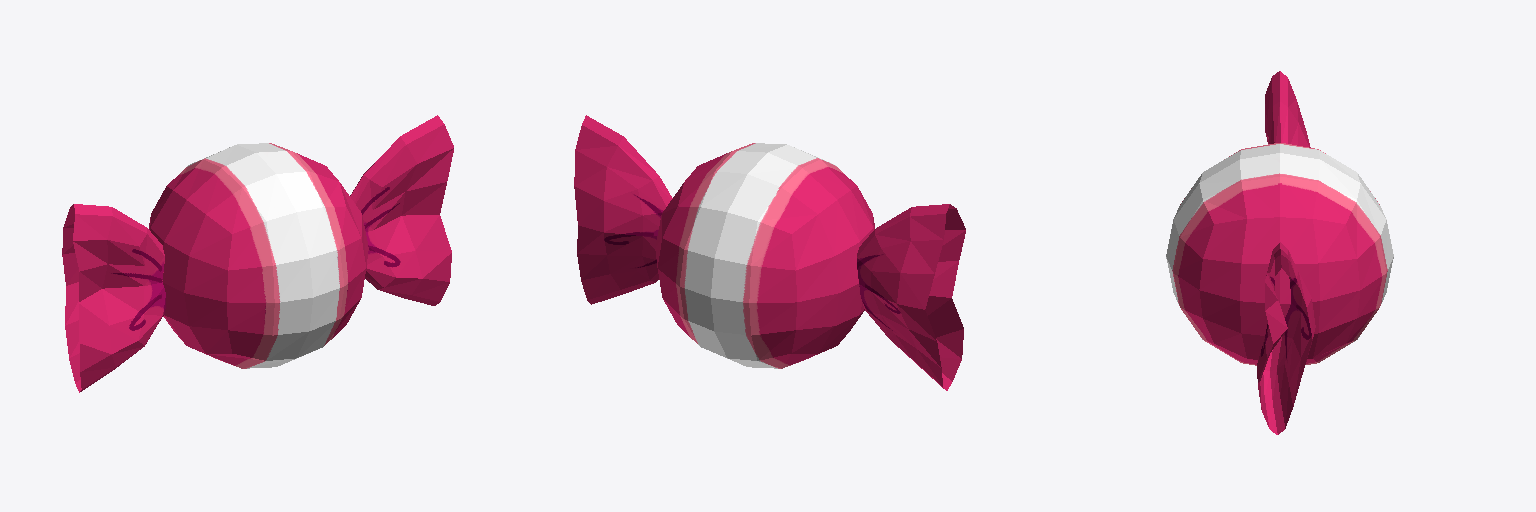
The picture shows the model from 3 angles: view 1: azimuth 30°, elevation 25°; view 2: azimuth 150°, elevation 25°; view 3: azimuth 270°, elevation 25°; orthographic projection.
Visible parts, largest first — view 1: Candy_Roundcube.005; view 2: Candy_Roundcube.005; view 3: Candy_Roundcube.005.
Part boxes in pixels (bbox=[...]): Candy_Roundcube.005: bbox=[62, 115, 453, 392]; Candy_Roundcube.005: bbox=[574, 115, 965, 390]; Candy_Roundcube.005: bbox=[1166, 71, 1393, 434].
Bounding box in the file's own units: 3.47 × 1.79 × 1.79.
Materials: 1 (1 with a texture image).